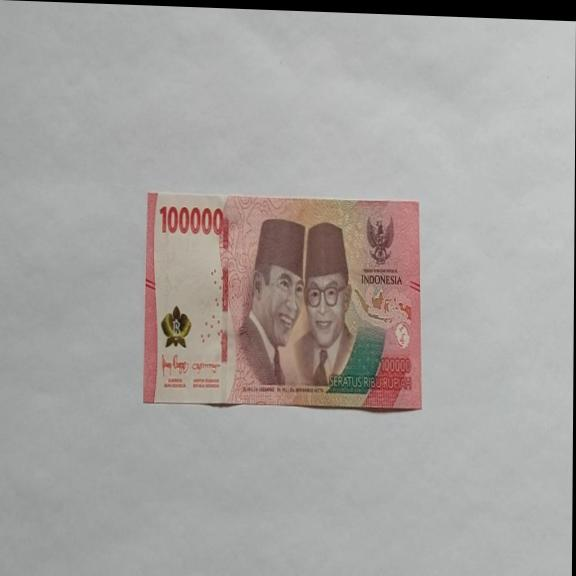Kertas: (143, 188, 424, 415), (158, 202, 225, 238)
